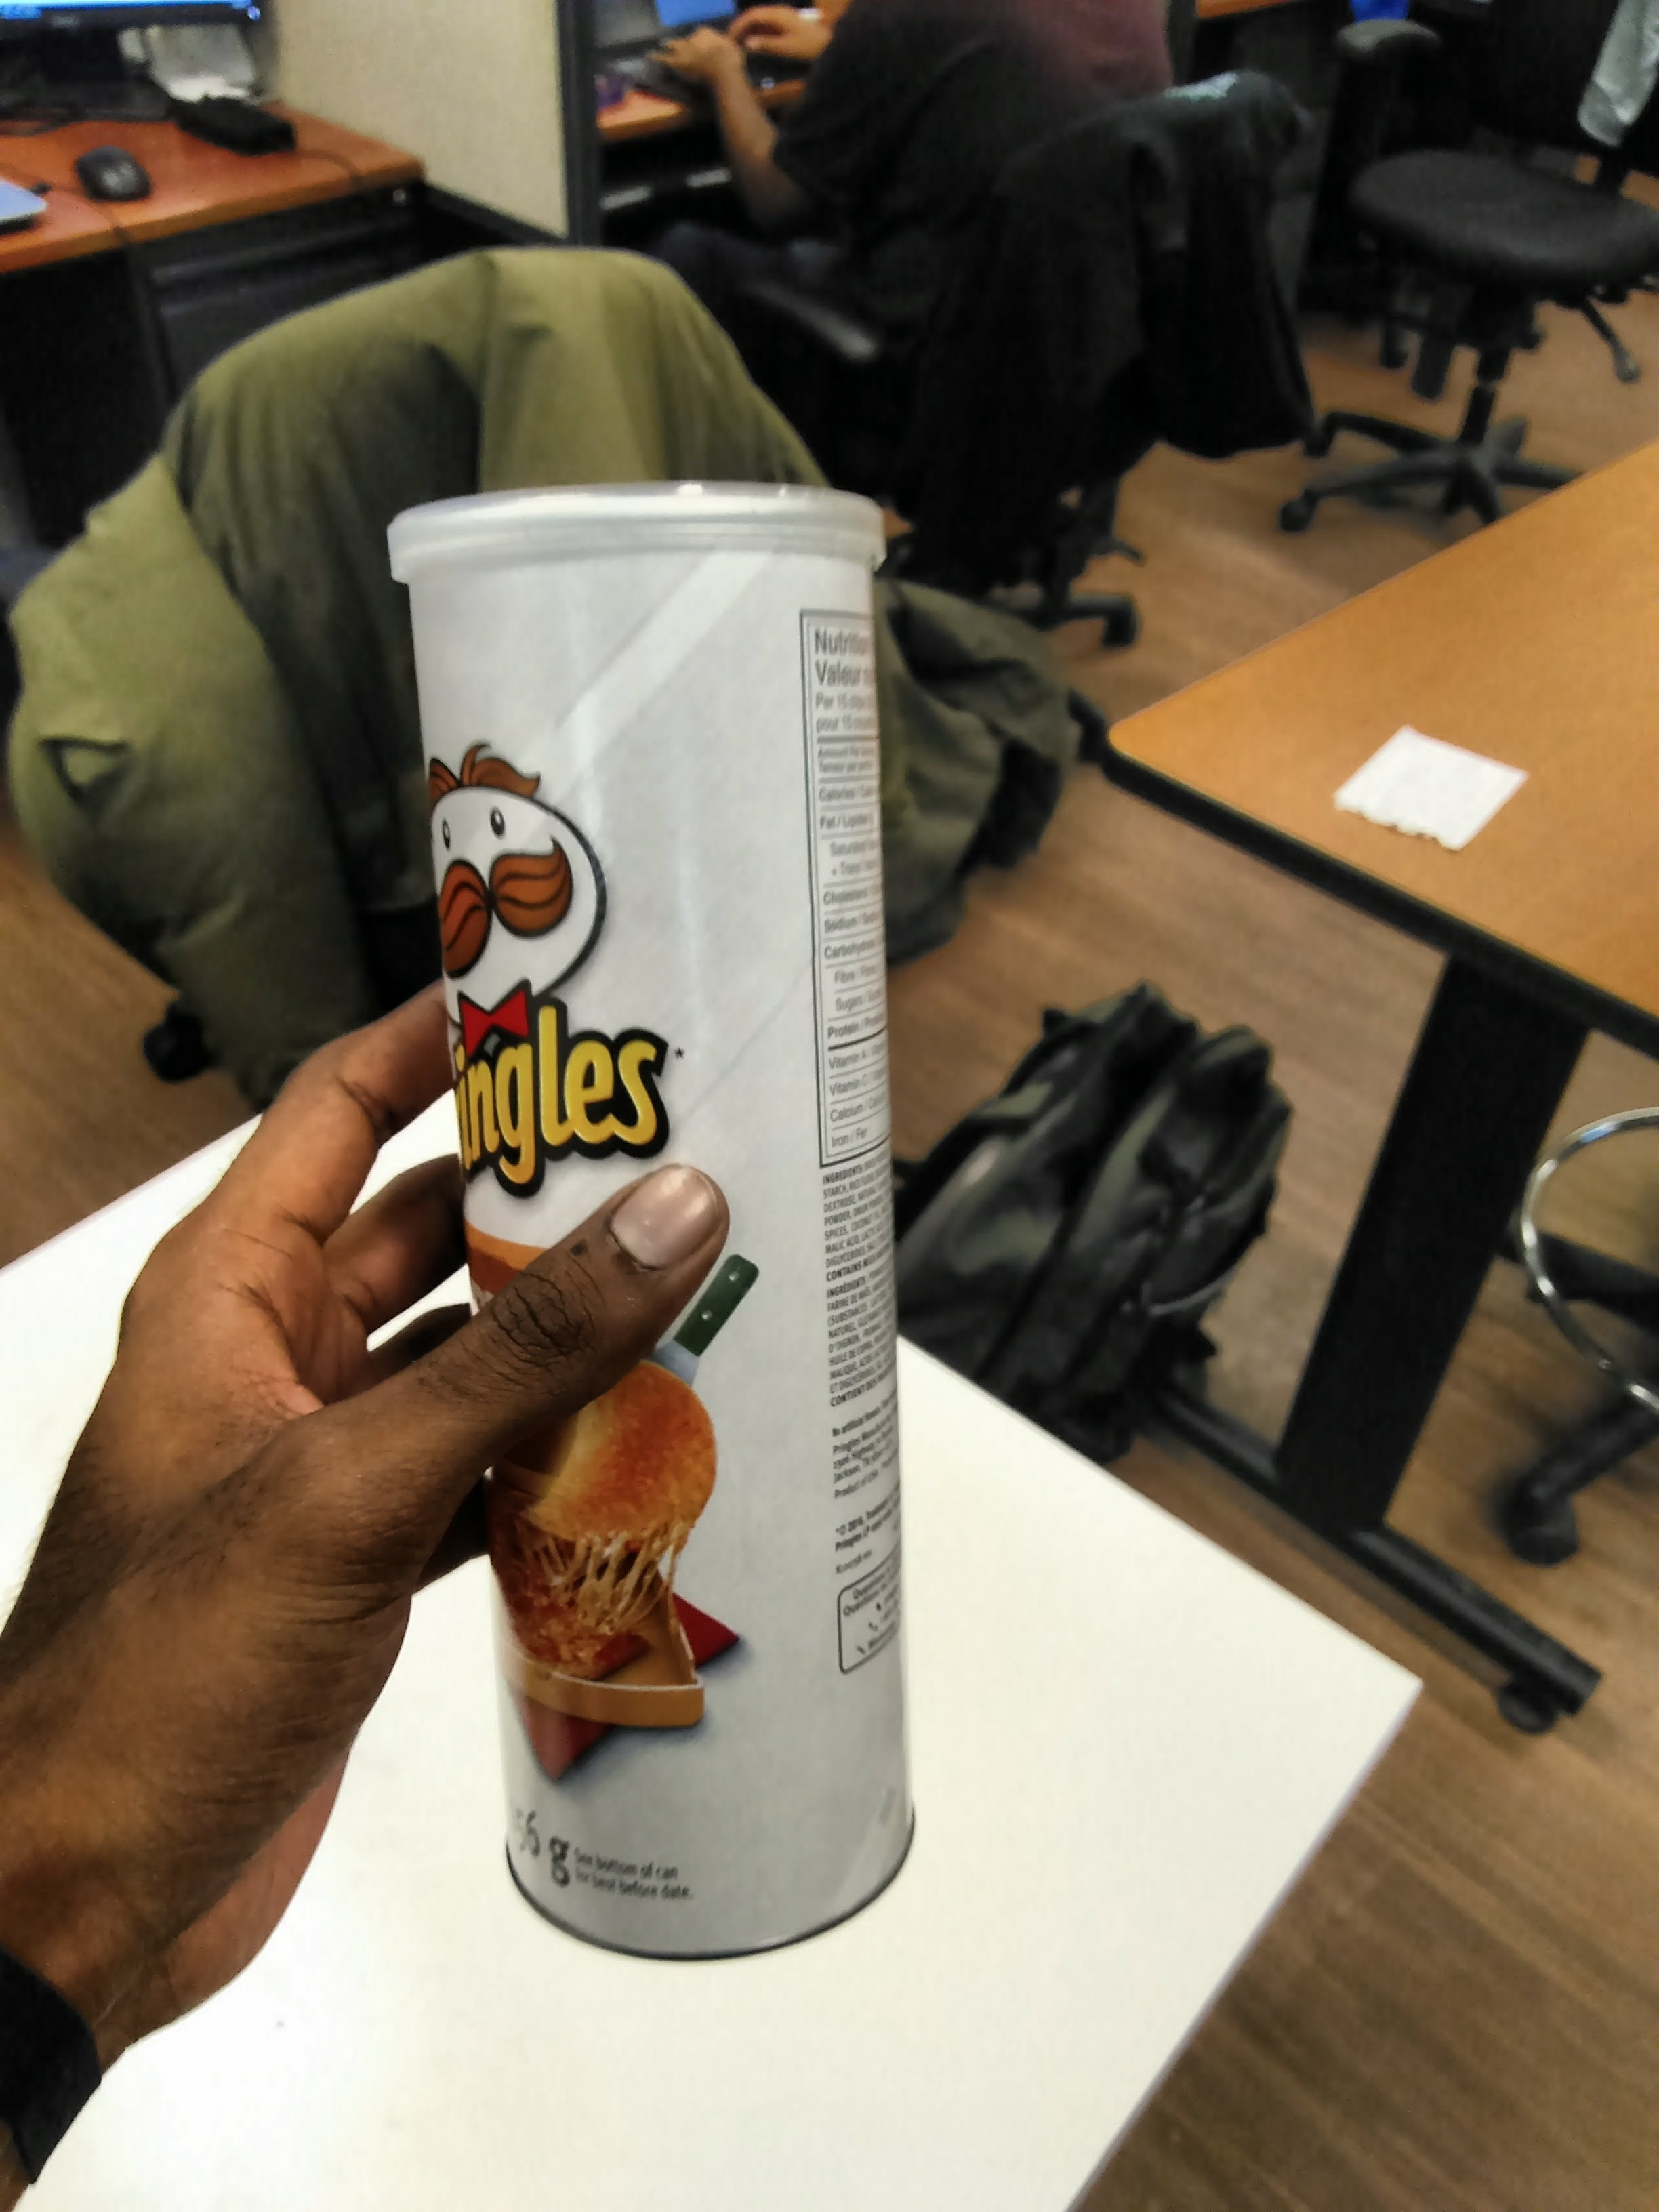pringles: (315, 439, 1011, 1994)
